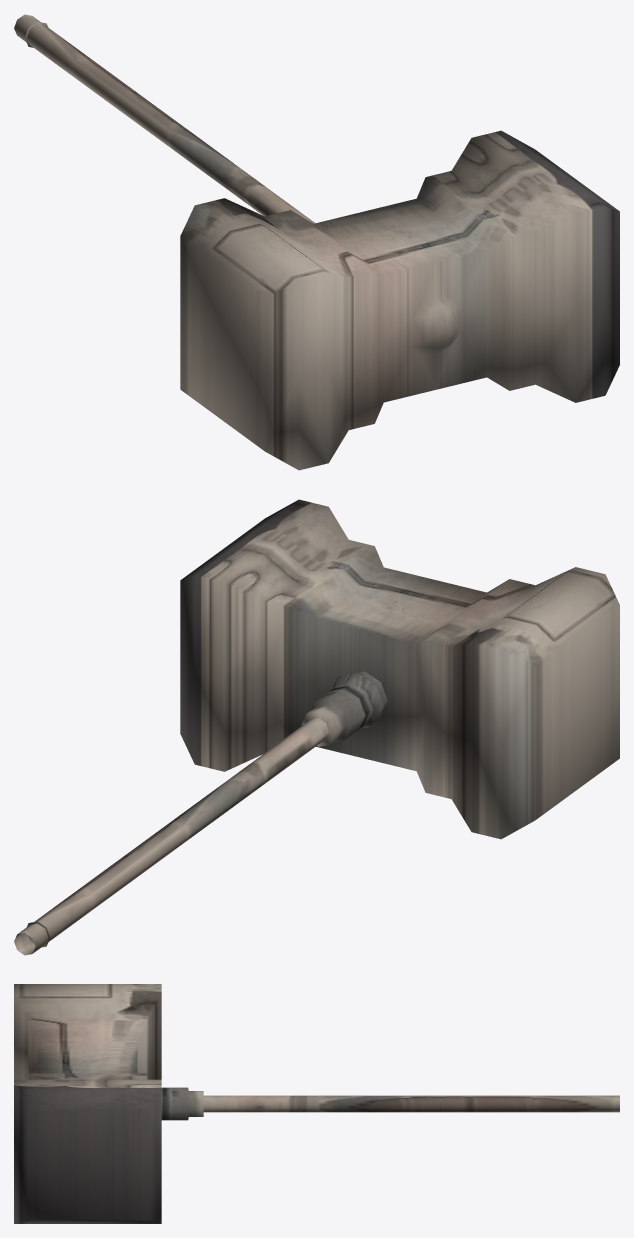
The model's file is FX_chuizi.FBX.
3 views of the same model, one above another, from view 1: azimuth 30°, elevation 25°; view 2: azimuth 150°, elevation 25°; view 3: azimuth 270°, elevation 25° (orthographic). The views are drawn at different scales.
Visible parts, largest first — view 1: FX_chuizi; view 2: FX_chuizi; view 3: FX_chuizi.
Part boxes in pixels (x1,y1,x2,y2): FX_chuizi: (14,14,619,470); FX_chuizi: (14,499,619,955); FX_chuizi: (14,984,619,1223).
Bounding box in the file's own units: 96.72 × 49.17 × 202.
